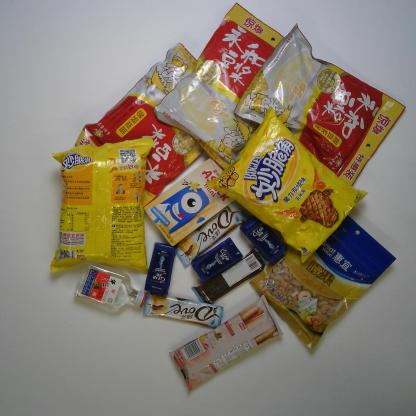Alcohol: (73, 257, 146, 315)
Chocolate: (193, 247, 269, 306), (176, 202, 245, 266), (143, 290, 225, 329)
Dessert: (168, 294, 284, 394), (142, 157, 236, 246)
Dried Fruit: (247, 198, 398, 352)
Instant Drink: (235, 23, 406, 187), (155, 3, 309, 176), (72, 40, 203, 214)
Personal Hygiene: (191, 235, 246, 281), (240, 212, 288, 264), (144, 241, 177, 298)
Puffed Food: (207, 107, 370, 266), (49, 136, 158, 274)
